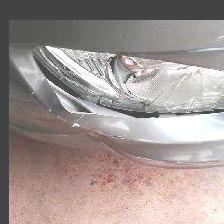head_lamp: (47, 63, 219, 120), (61, 131, 142, 155)
